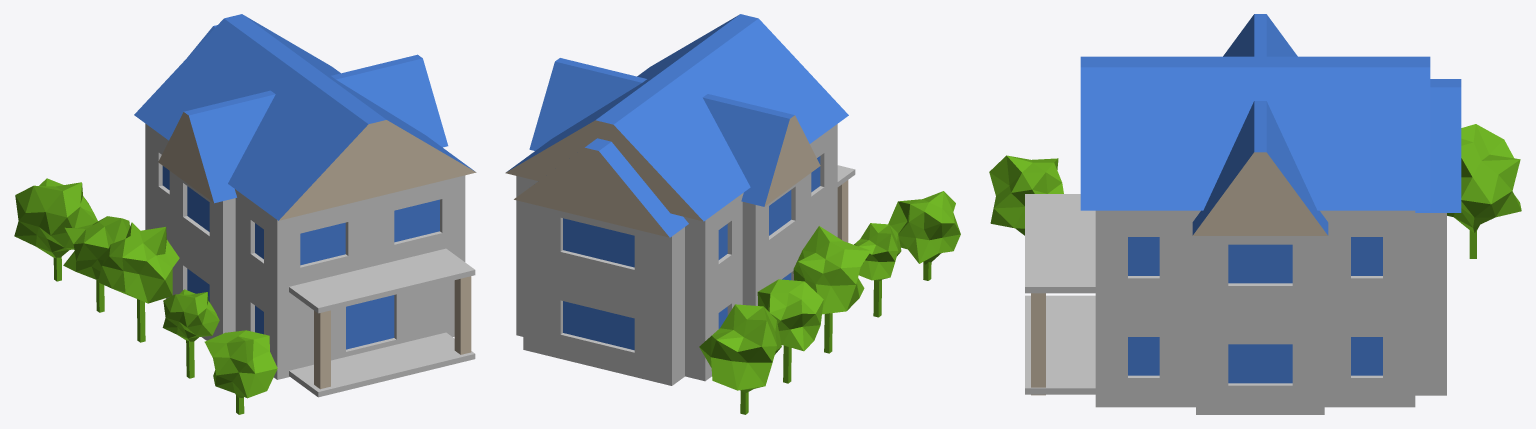
Rendered from house1.fbx.
The picture shows the model from 3 angles, left to right: view 1: azimuth 30°, elevation 25°; view 2: azimuth 150°, elevation 25°; view 3: azimuth 270°, elevation 25°; orthographic projection. The views are drawn at different scales.
Parts seen in each view (by area): view 1: house_2_v_5; view 2: house_2_v_5; view 3: house_2_v_5.
Boxes of the visible parts, x1,y1,x2,y2 form: house_2_v_5: [14, 14, 476, 414]; house_2_v_5: [505, 14, 960, 414]; house_2_v_5: [989, 14, 1521, 414].
Size of the model in its own units: 149 by 111 by 185.
